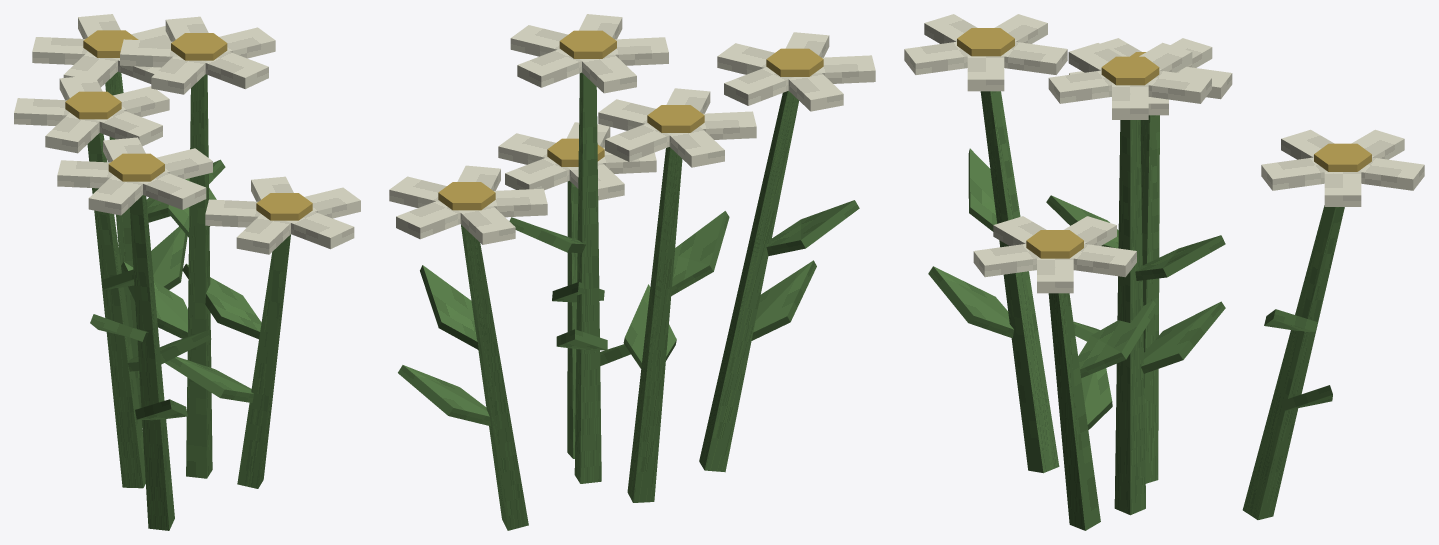
Rendered from f_carrot_wild.glb.
The picture shows the model from 3 angles, left to right: view 1: azimuth 30°, elevation 25°; view 2: azimuth 150°, elevation 25°; view 3: azimuth 270°, elevation 25°; orthographic projection. The views are drawn at different scales.
Parts seen in each view (by area): view 1: block_petal (×24), block_pointed-leaf (×10), block_stem-0, block_stem-1, block_stem-4, block_stem-3, block_stem-2, block_flower-centre-1, block_flower-centre-4, block_flower-centre-3, block_flower-centre-0, block_flower-centre-2; view 2: block_petal (×24), block_pointed-leaf (×8), block_stem-1, block_stem-0, block_stem-4, block_stem-2, block_stem-3, block_flower-centre-1, block_flower-centre-2, block_flower-centre-0, block_flower-centre-4, block_flower-centre-3; view 3: block_petal (×22), block_pointed-leaf (×9), block_stem-0, block_stem-1, block_stem-2, block_stem-3, block_stem-4, block_flower-centre-0, block_flower-centre-1, block_flower-centre-2, block_flower-centre-3.
Boxes of the visible parts, box(x1,y1,x2,y2) form: block_petal (×24): box(14, 14, 360, 254); block_pointed-leaf (×10): box(90, 159, 261, 420); block_stem-0: box(186, 74, 212, 478); block_stem-1: box(130, 195, 174, 530); block_stem-4: box(87, 133, 145, 488); block_stem-3: box(237, 234, 290, 488); block_stem-2: box(105, 71, 142, 427); block_flower-centre-1: box(108, 153, 164, 181); block_flower-centre-4: box(65, 91, 121, 119); block_flower-centre-3: box(256, 193, 312, 220); block_flower-centre-0: box(171, 33, 227, 60); block_flower-centre-2: box(83, 30, 138, 57); block_petal (×24): box(389, 14, 875, 244); block_pointed-leaf (×8): box(398, 200, 859, 426); block_stem-1: box(699, 91, 798, 472); block_stem-0: box(574, 72, 601, 483); block_stem-4: box(627, 147, 682, 502); block_stem-2: box(461, 225, 528, 530); block_stem-3: box(567, 181, 578, 458); block_flower-centre-1: box(766, 48, 823, 76); block_flower-centre-2: box(438, 182, 495, 210); block_flower-centre-0: box(559, 30, 616, 58); block_flower-centre-4: box(647, 105, 704, 132); block_flower-centre-3: box(547, 138, 604, 166); block_petal (×22): box(904, 14, 1424, 293); block_pointed-leaf (×9): box(928, 148, 1332, 429); block_stem-0: box(1114, 120, 1145, 515); block_stem-1: box(980, 91, 1059, 473); block_stem-2: box(1242, 205, 1344, 519); block_stem-3: box(1048, 293, 1100, 530); block_stem-4: box(1140, 115, 1159, 483); block_flower-centre-0: box(1101, 56, 1159, 85); block_flower-centre-1: box(957, 28, 1014, 56); block_flower-centre-2: box(1314, 143, 1371, 171); block_flower-centre-3: box(1026, 230, 1083, 258).
Bounding box in the file's own units: 0.4358 × 0.5765 × 0.6117.
1 material, 1 textured.
